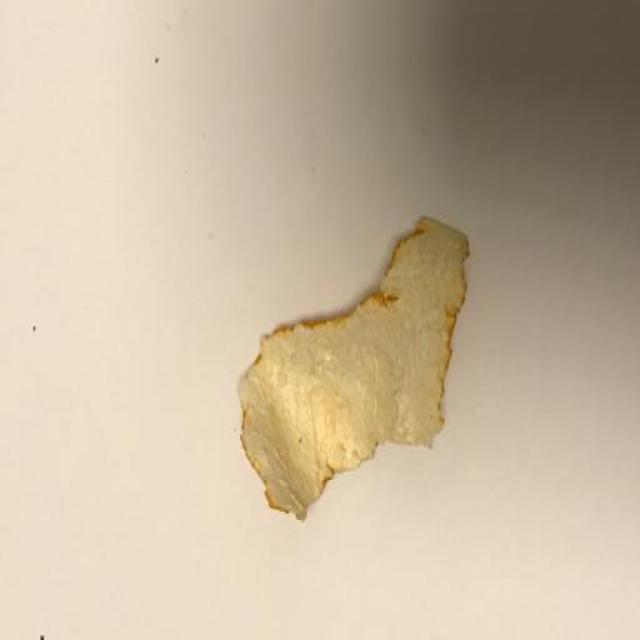Random Trash: (238, 215, 470, 520)
